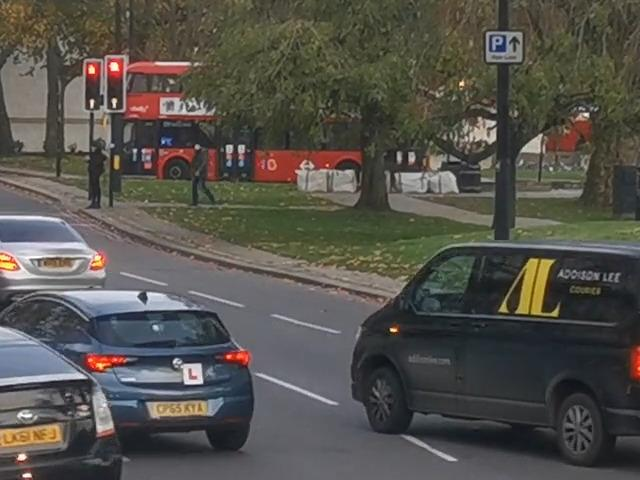car: (4, 290, 264, 448), (0, 211, 112, 316)
truck: (353, 237, 640, 467)
